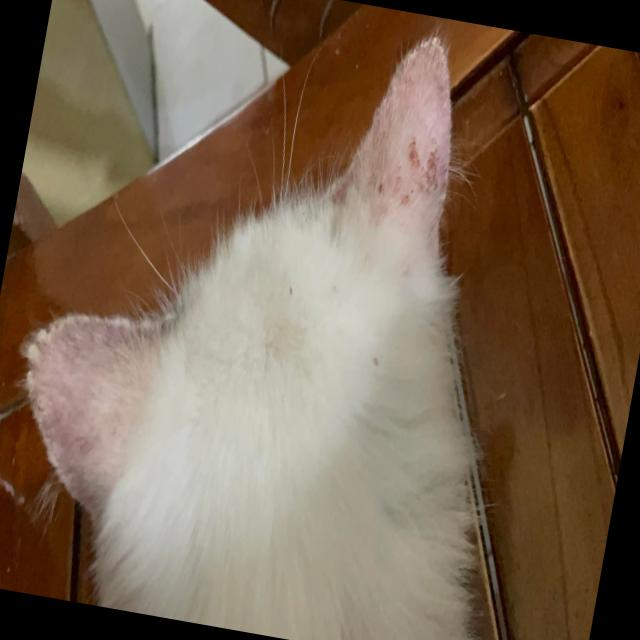Mange: (376, 88, 450, 212), (50, 337, 124, 451)
